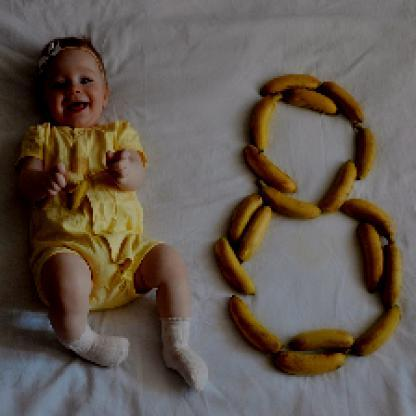child: (16, 37, 209, 392)
